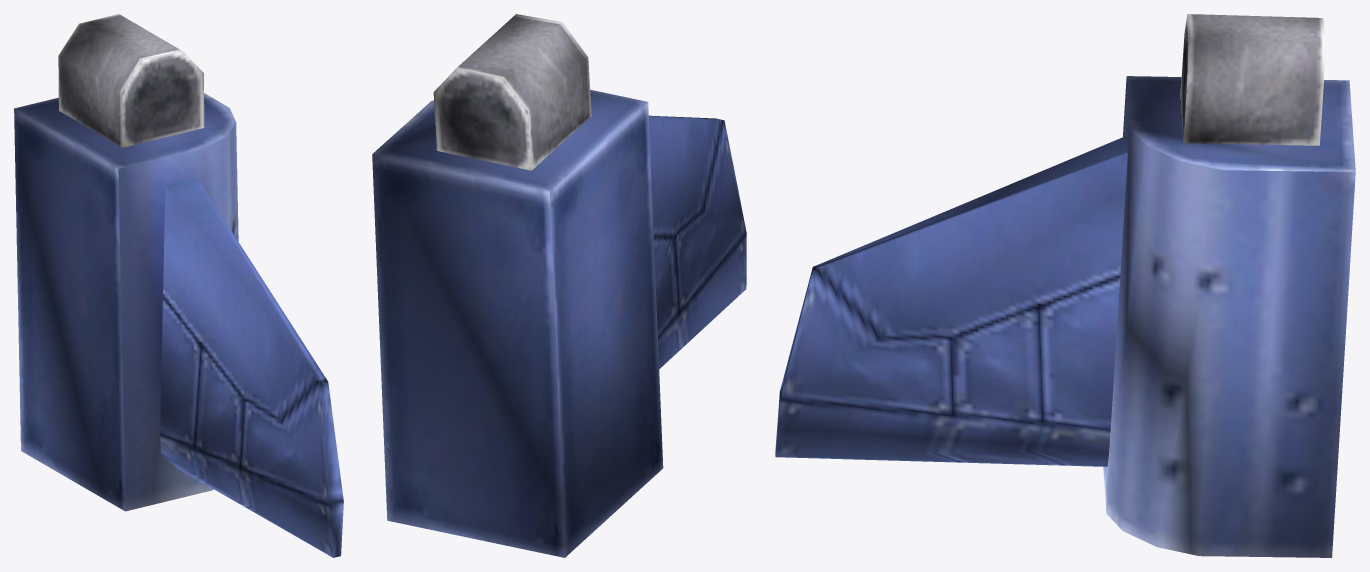
The model's file is Robot01.RightKnee2.fbx.
The picture shows the model from 3 angles, left to right: view 1: azimuth 30°, elevation 25°; view 2: azimuth 150°, elevation 25°; view 3: azimuth 270°, elevation 25°; orthographic projection. The views are drawn at different scales.
Visible parts, largest first — view 1: mesh_1072.001; view 2: mesh_1072.001; view 3: mesh_1072.001.
Boxes of the visible parts, x1,y1,x2,y2 form: mesh_1072.001: [14, 14, 343, 557]; mesh_1072.001: [372, 14, 746, 557]; mesh_1072.001: [775, 14, 1355, 557].
Bounding box in the file's own units: 18.78 × 46.17 × 49.52.
